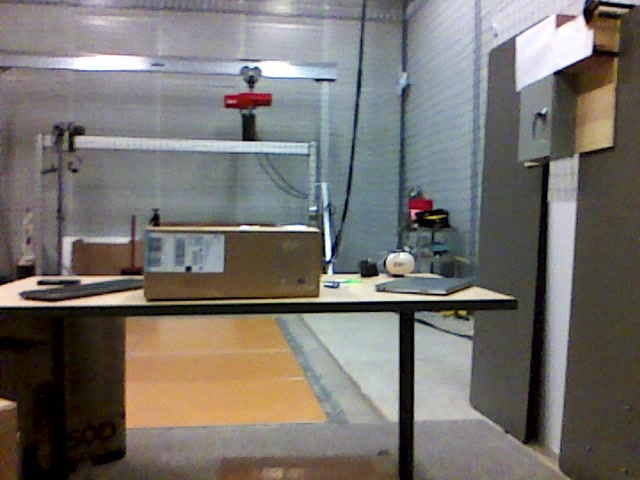box: (1, 320, 127, 470), (144, 228, 320, 299)
